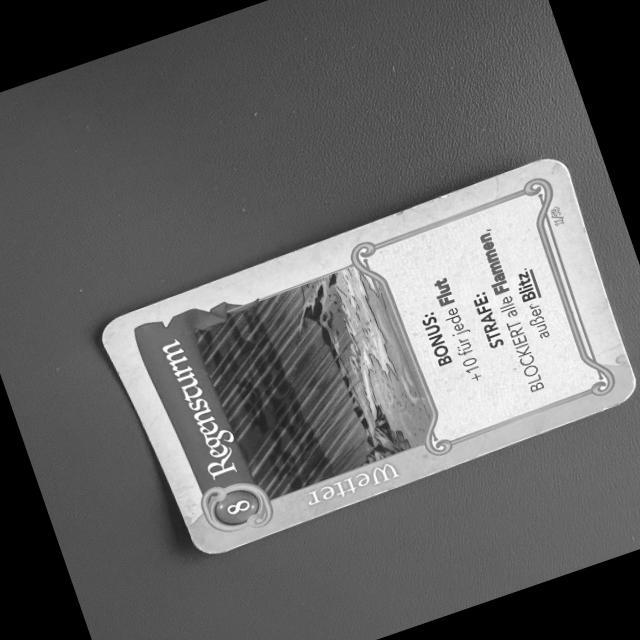Rainstorm: (85, 153, 640, 559)
